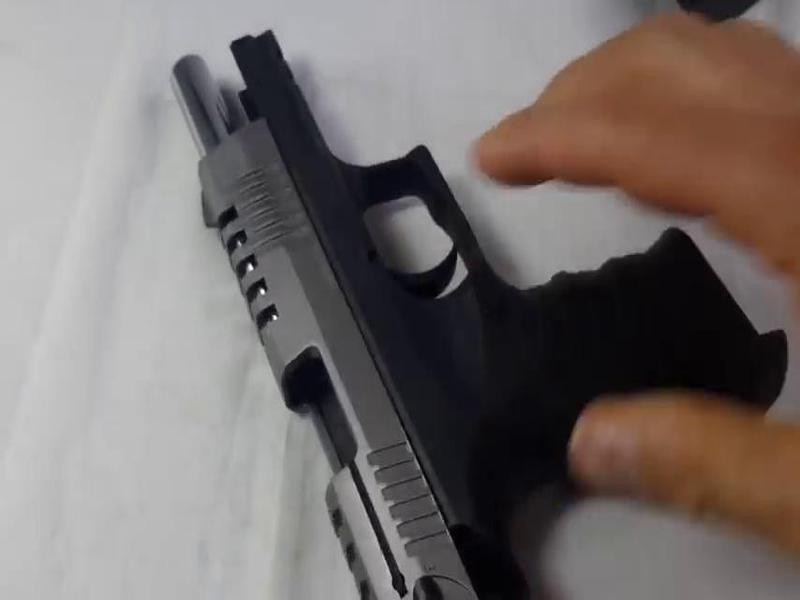Pistola: (164, 20, 791, 481)
